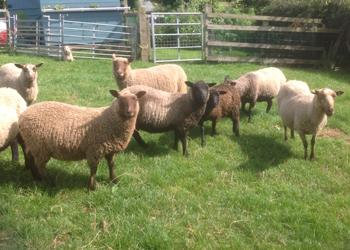sheep: (27, 86, 142, 207), (128, 78, 205, 156), (280, 81, 331, 160), (110, 58, 189, 94), (234, 66, 286, 117), (208, 79, 245, 142), (2, 57, 50, 105)
